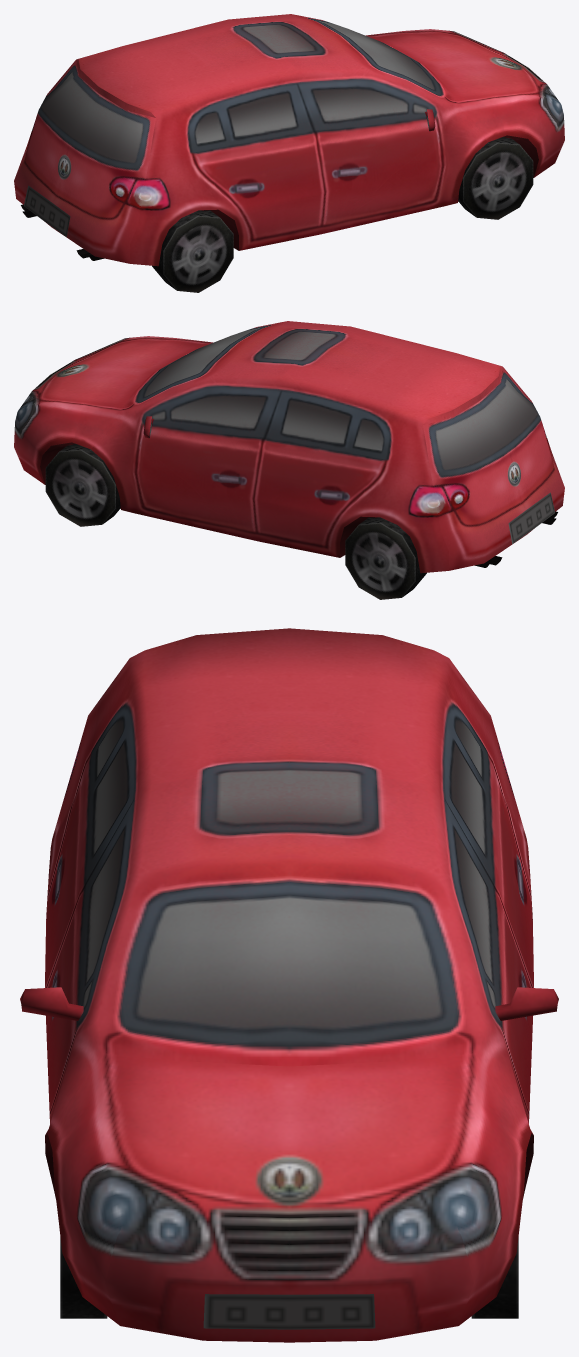
File: car_04.FBX
3 renders of one model, top to bottom at view 1: azimuth 30°, elevation 25°; view 2: azimuth 150°, elevation 25°; view 3: azimuth 270°, elevation 25°, orthographic. The views are drawn at different scales.
Parts seen in each view (by area): view 1: car_04; view 2: car_04; view 3: car_04.
Boxes of the visible parts, x1=… form: car_04: x1=14, y1=14, x2=564, y2=292; car_04: x1=14, y1=321, x2=564, y2=599; car_04: x1=20, y1=628, x2=558, y2=1342.
Size of the model in its own units: 16.64 by 5.89 by 7.87.
1 material, 1 textured.
